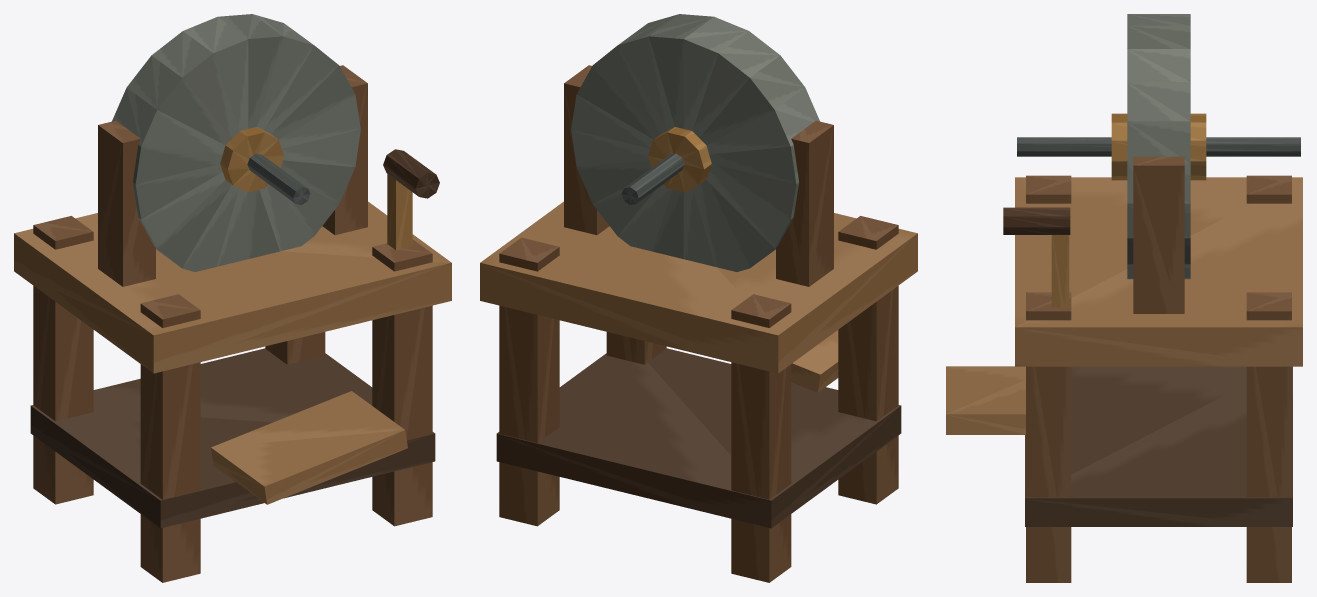
File: faceting-wheel.obj
3 views of the same model, side by side, from view 1: azimuth 30°, elevation 25°; view 2: azimuth 150°, elevation 25°; view 3: azimuth 270°, elevation 25° (orthographic). The views are drawn at different scales.
Size of the model in its own units: 0.9 by 1.37 by 0.905.
Materials: 1 (1 with a texture image).
